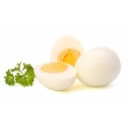begg: (82, 48, 121, 86), (37, 64, 77, 89), (53, 36, 81, 62)
